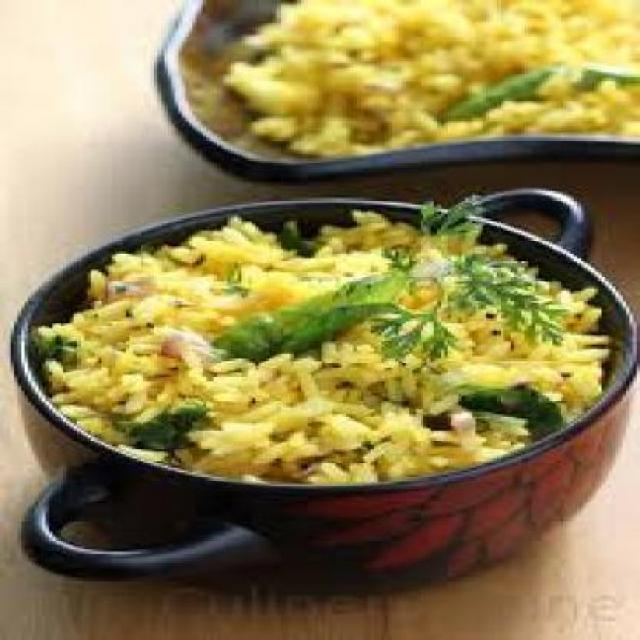poha: (36, 212, 610, 486), (223, 0, 640, 158)
